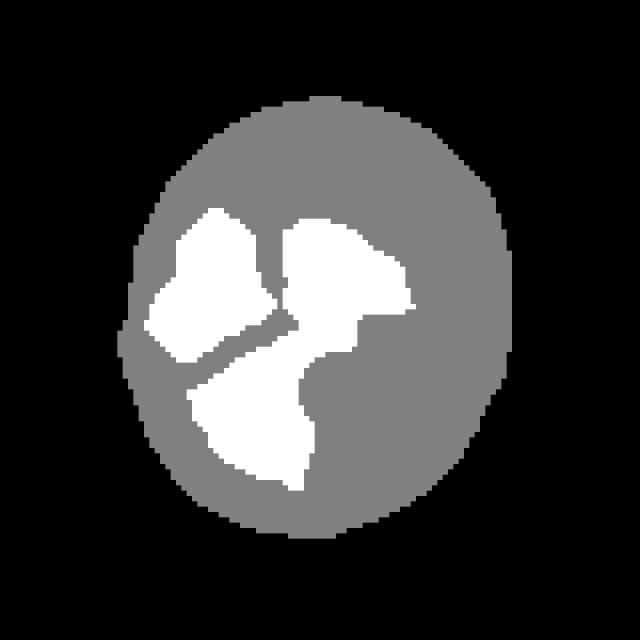WBC: (91, 80, 549, 549)
